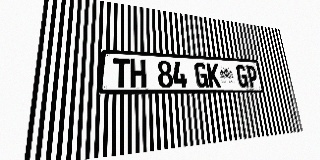4: (172, 61, 187, 88)
8: (157, 60, 173, 88)
G: (194, 62, 209, 88), (235, 64, 249, 88)
H: (130, 59, 146, 88)
K: (207, 63, 221, 88)
P: (246, 65, 259, 87)
T: (112, 58, 130, 88)
